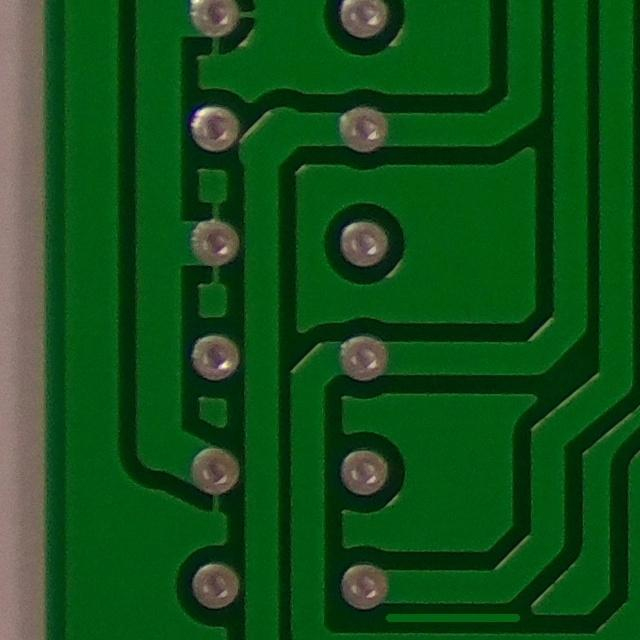spurious_copper: (382, 600, 529, 634)
